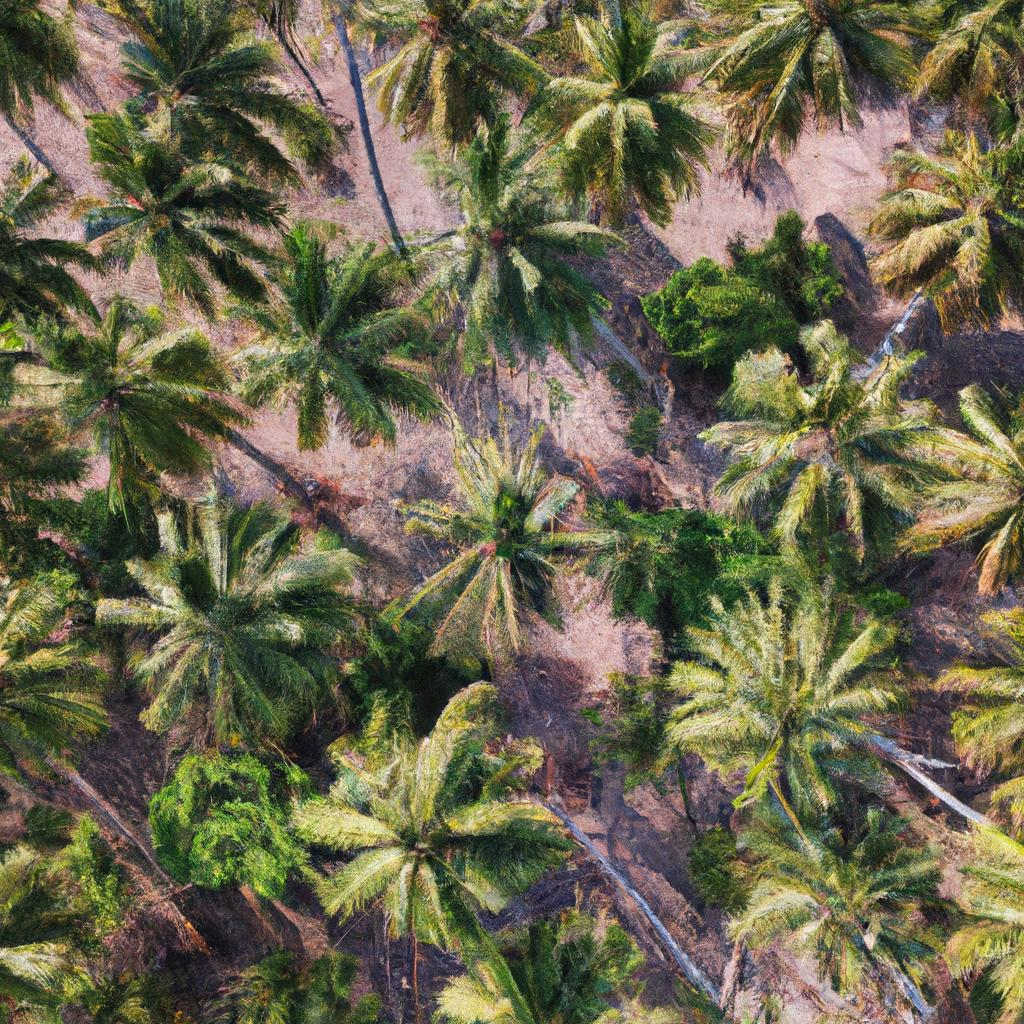coconut_tree: (282, 678, 587, 942), (100, 481, 392, 737), (651, 562, 928, 791), (381, 393, 608, 664), (212, 223, 468, 454), (692, 794, 973, 996), (719, 308, 946, 539), (25, 293, 270, 486), (405, 131, 614, 354), (541, 5, 747, 231), (360, 0, 539, 169)
